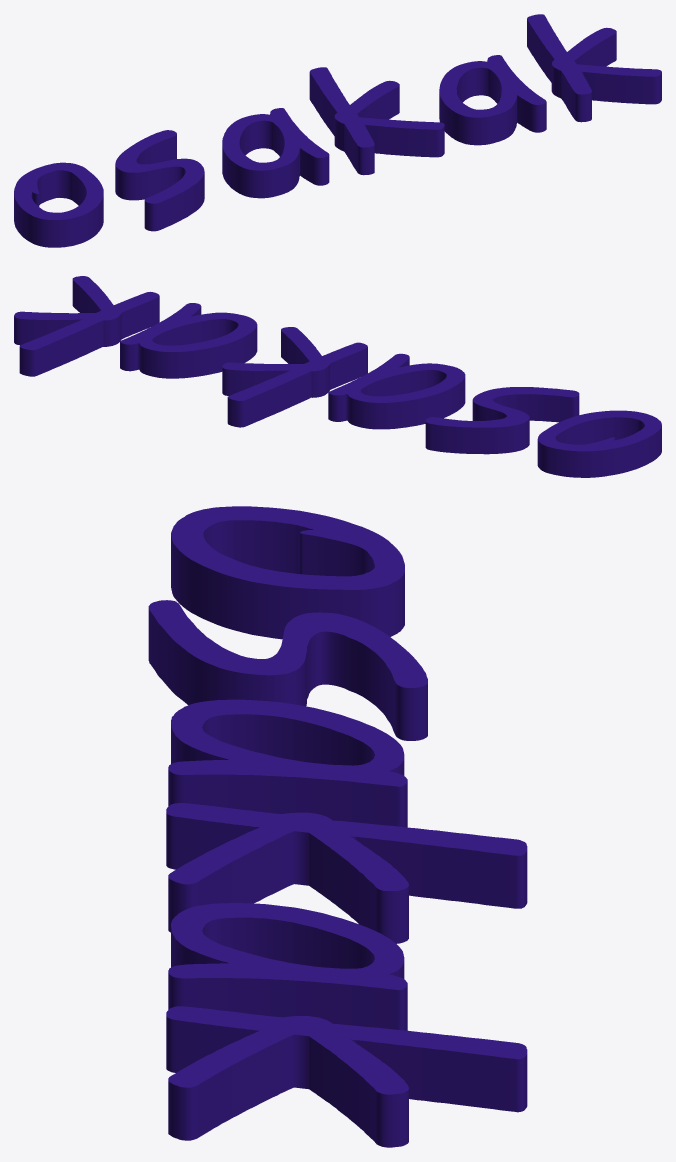
Rendered from osakak.glb.
The picture shows the model from 3 angles, top to bottom: view 1: azimuth 30°, elevation 25°; view 2: azimuth 150°, elevation 25°; view 3: azimuth 270°, elevation 25°; orthographic projection. The views are drawn at different scales.
Parts seen in each view (by area): view 1: Text; view 2: Text; view 3: Text.
Part boxes in pixels (x1,y1,x2,y2): Text: (14,14,661,247); Text: (14,276,661,477); Text: (148,506,527,1147).
Size of the model in its own units: 2.37 by 0.0997 by 0.6458.
